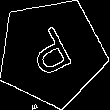P_SE: (24, 21, 80, 84)
